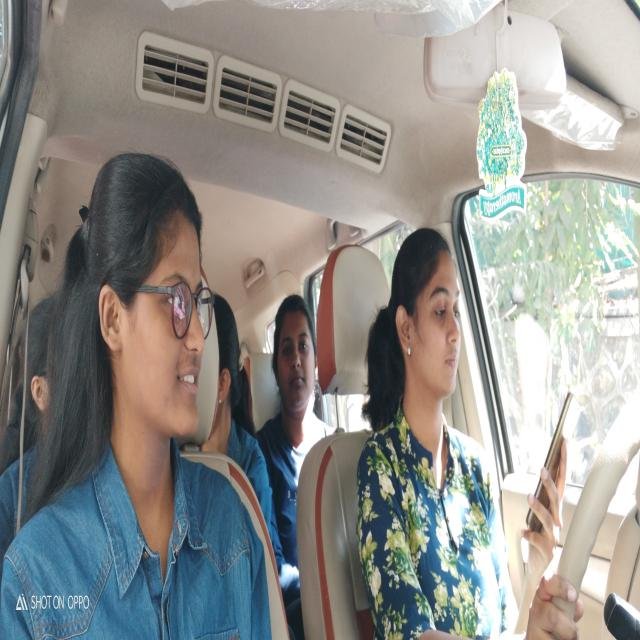mobile: (523, 382, 574, 538)
person: (80, 144, 214, 474), (386, 225, 468, 429), (269, 288, 321, 428), (211, 291, 251, 449), (25, 298, 65, 429)
